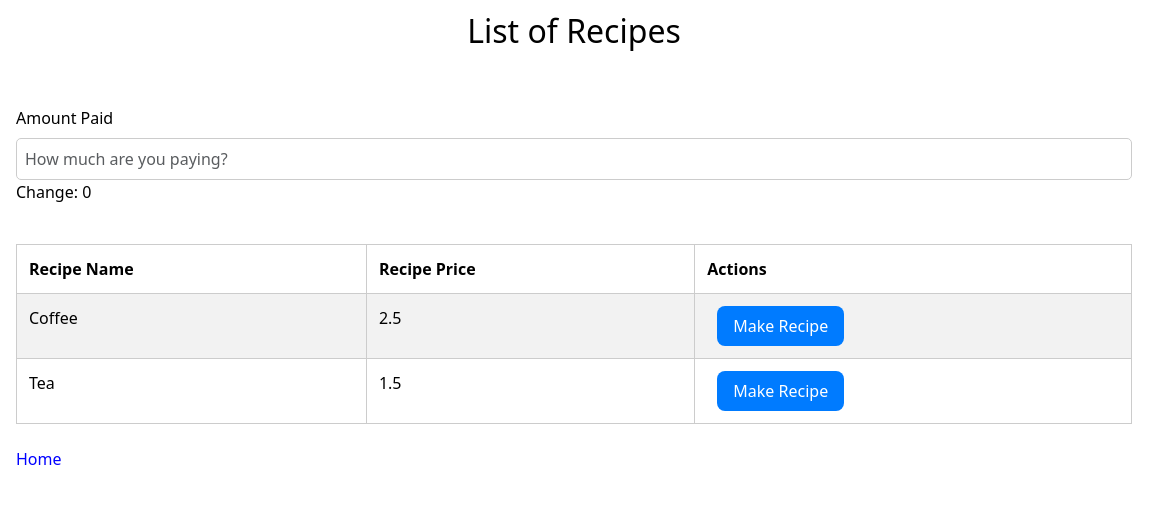
Test case: ListRecipesComponent › successfully crafts a recipe and displays change
Expected: the text "Coffee" is shown, [16,294,366,359]
Type "3" into the number field with placeholder "How much are you paying?" at (574, 159), box [16,138,1132,180]
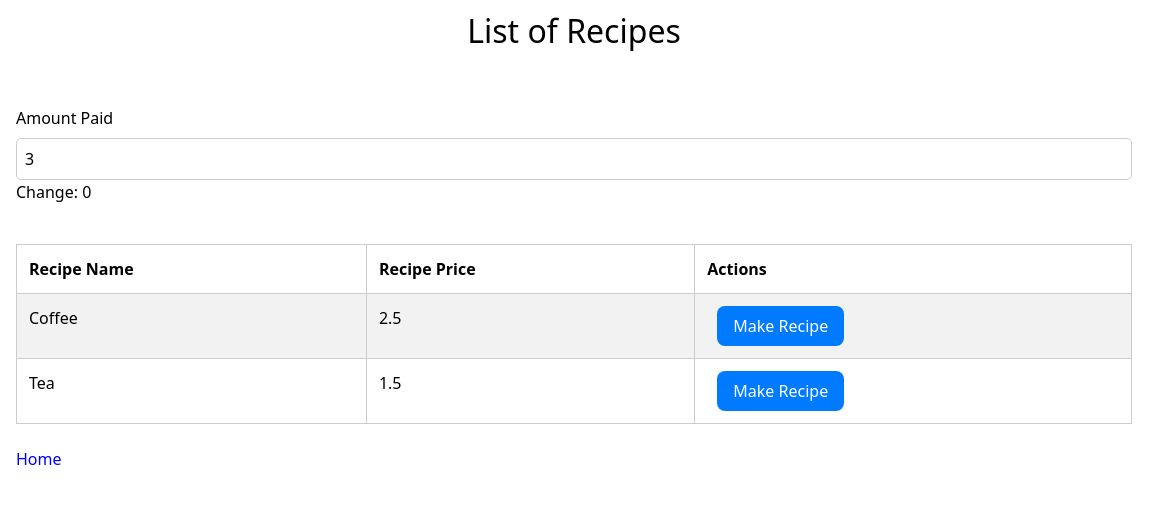
Click the button "Make Recipe" in the row of "Coffee" at (781, 326), box [717,306,844,346]
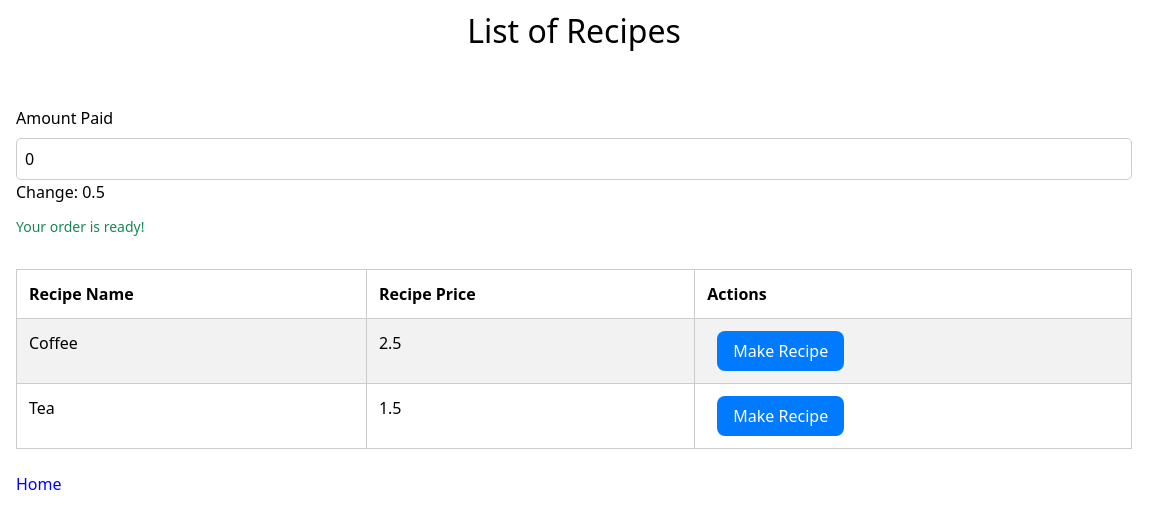
Expected: the text "Your order is ready!" is shown, [16,217,144,236]
Expected: the text "Change: 0.5" is shown, [16,180,105,204]
